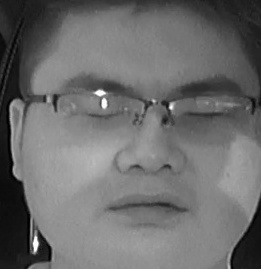blink: (182, 105, 222, 124), (84, 108, 125, 122)
glass: (53, 89, 147, 139), (162, 93, 253, 143)
mouth: (104, 190, 187, 227)
